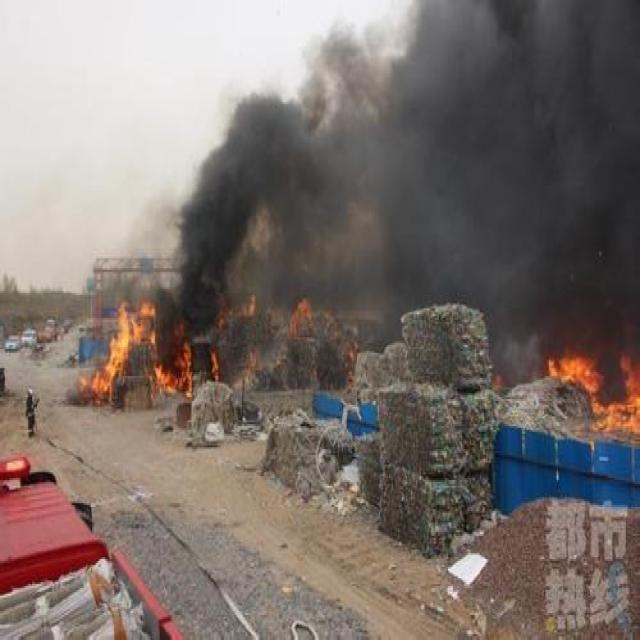fire: (76, 295, 170, 399), (548, 337, 639, 436), (155, 330, 194, 395), (235, 347, 262, 386), (286, 295, 310, 333), (208, 343, 220, 378), (241, 291, 256, 312)
smoke: (160, 0, 640, 360)
